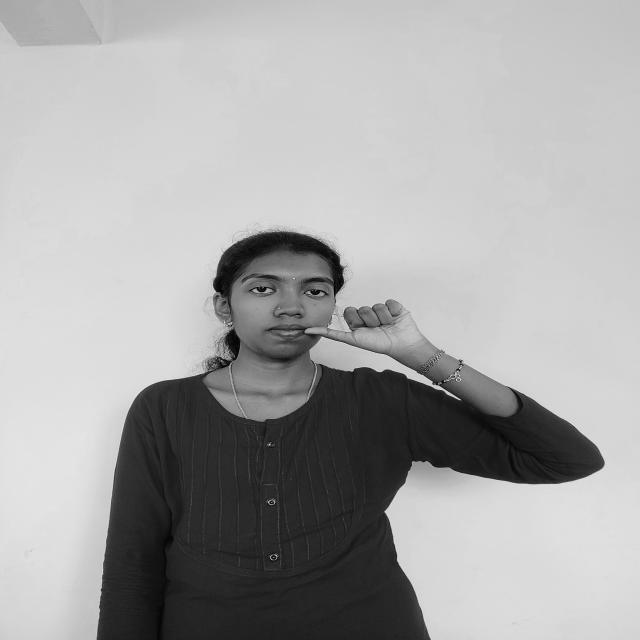Drink: (298, 302, 436, 366)
